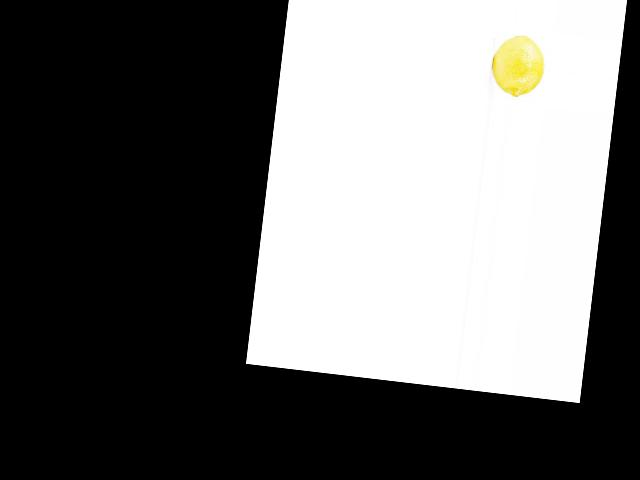lemon: (487, 25, 549, 109)
